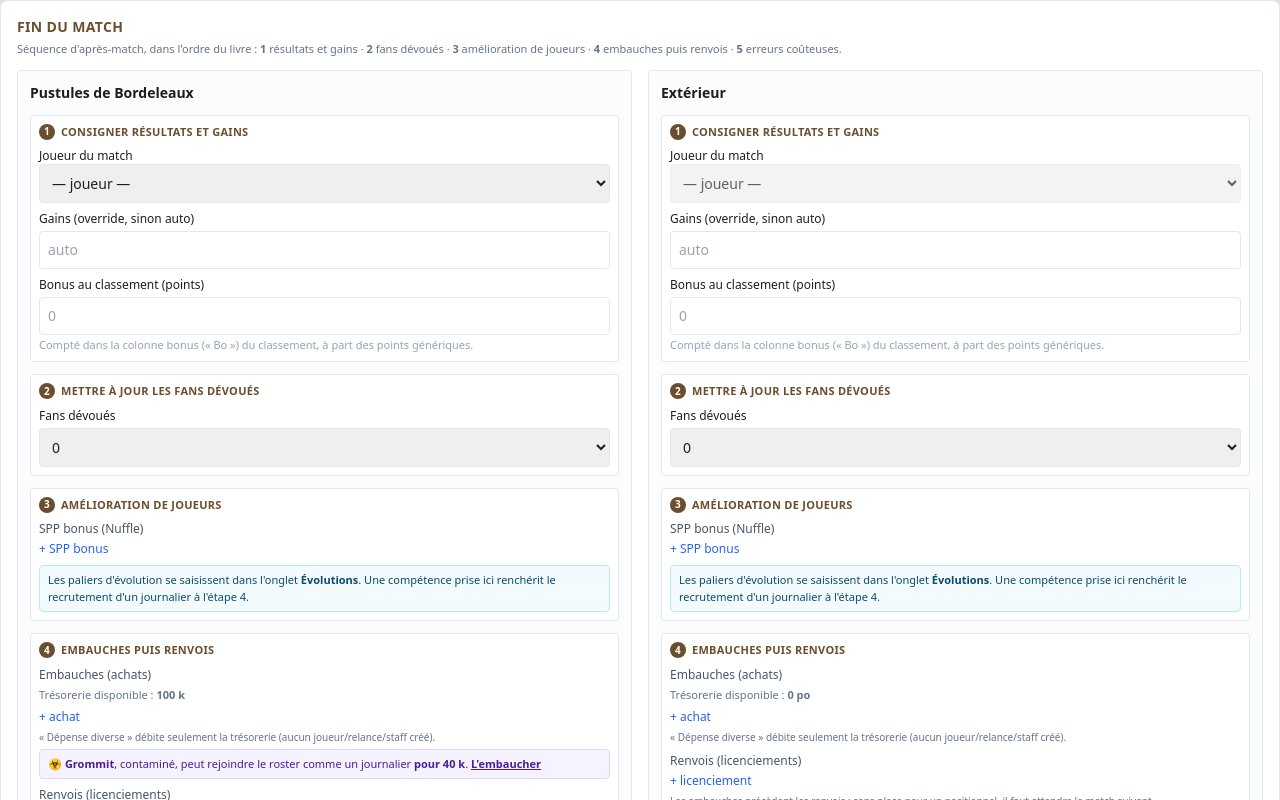
Scenario: PostMatchPanel — embauche du Contaminé AU PRIX du poste › le rappel de l'étape 4 annonce le prix, jamais « gratuitement », et l'ajoute au bon coût
This screenshot has width=1280, height=800.
Expected: the element with test id "raise-dead-hire-hint-home" shows "☣️", left=48, top=756, right=62, bottom=770
Expected: the element with test id "raise-dead-hire-hint-home" shows "contaminé", left=114, top=756, right=414, bottom=770
Step 1. Click the button with test id "raise-dead-hire-add-home" → (506, 764), box left=471, top=756, right=541, bottom=772
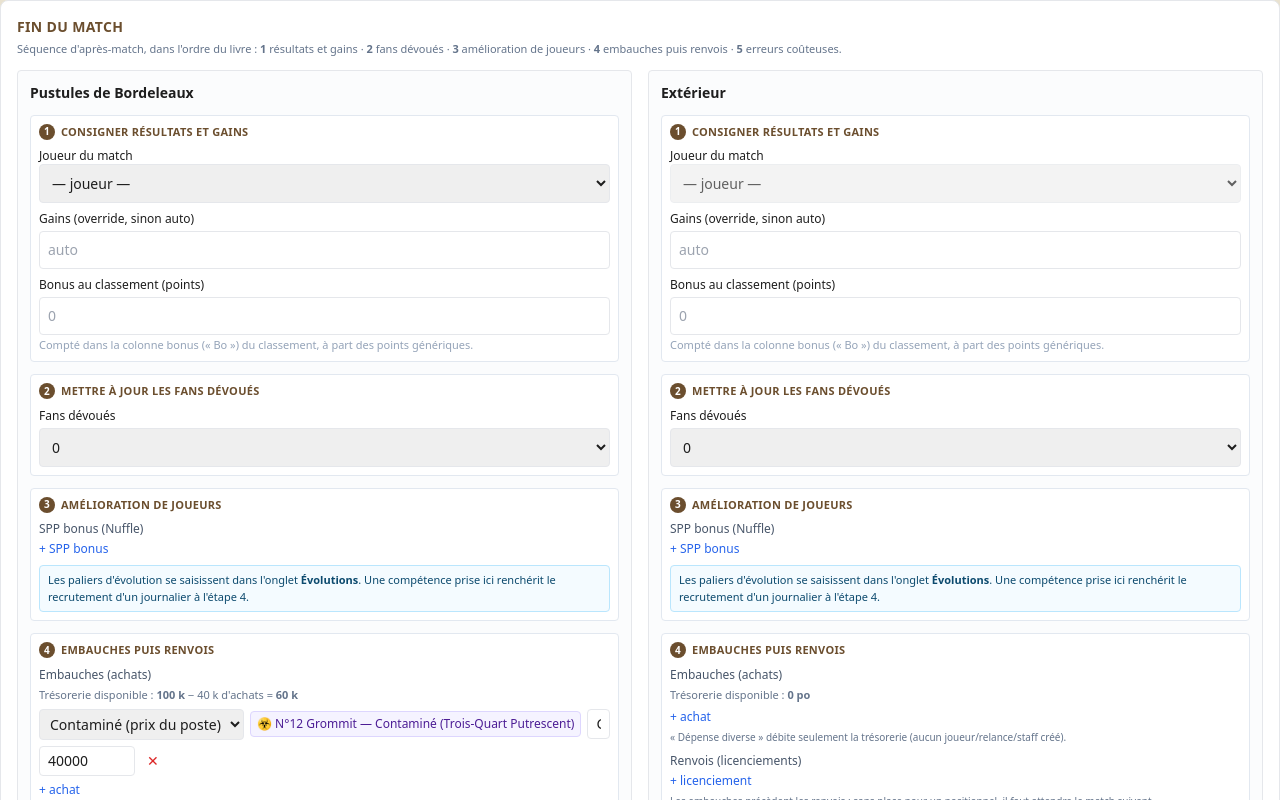
Result: the dropdown with test id "purchases-home-kind-0" shows "Contaminé (prix du poste)" at left=39, top=708, right=244, bottom=740
Result: the number field with test id "purchases-home-cost-0" holds "40000" at left=39, top=746, right=135, bottom=776
